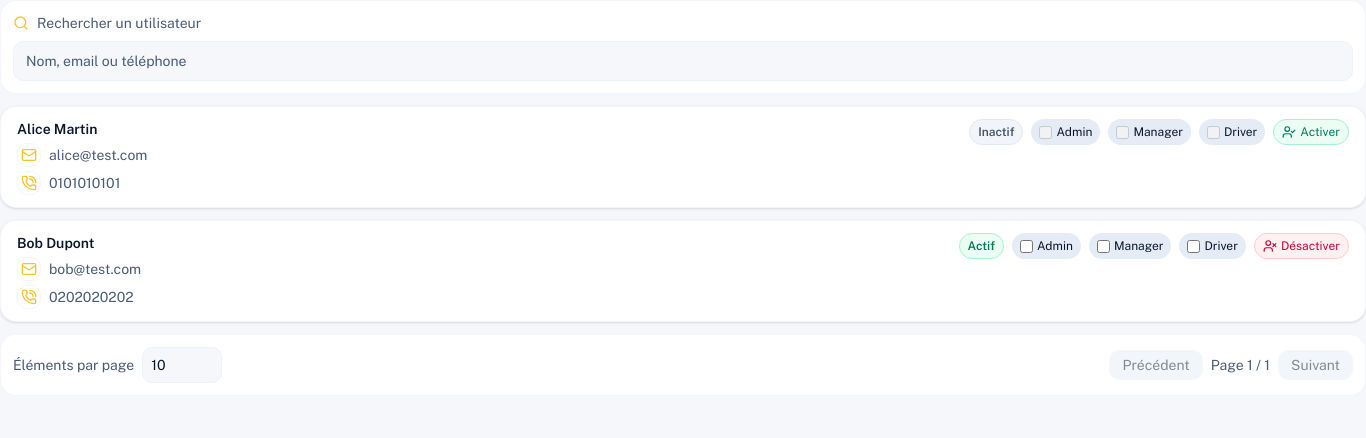
Test case: UsersTable search and activation › réactive un utilisateur inactif via le toggle
Click the button with aria-label "Activer Alice Martin".
click(1311, 132)  # box left=1273, top=119, right=1349, bottom=145
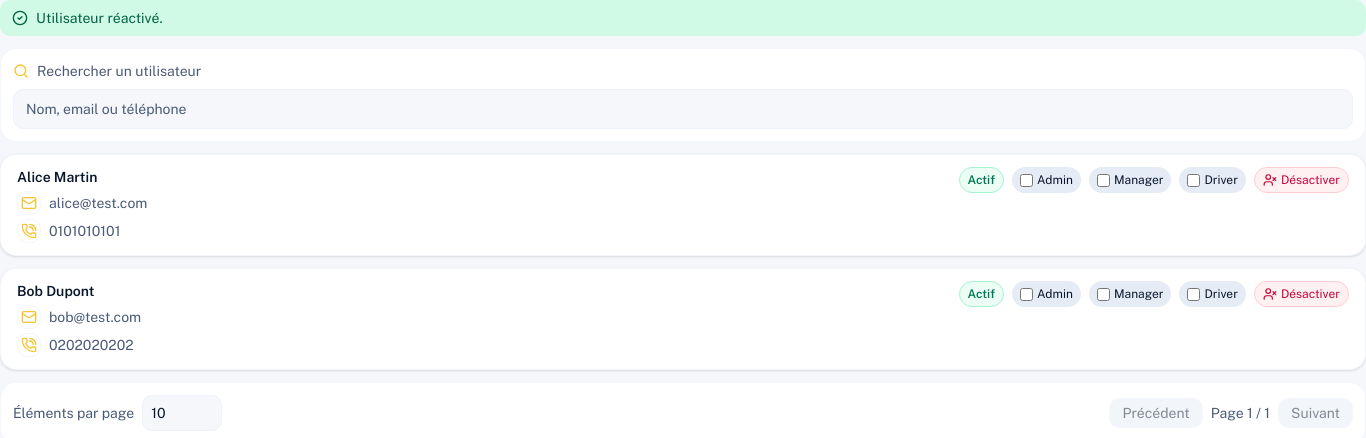
Result: the button with aria-label "Désactiver Alice Martin" is shown at left=1254, top=167, right=1349, bottom=193
